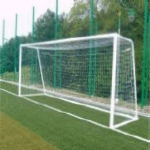goals: (17, 32, 140, 130)
